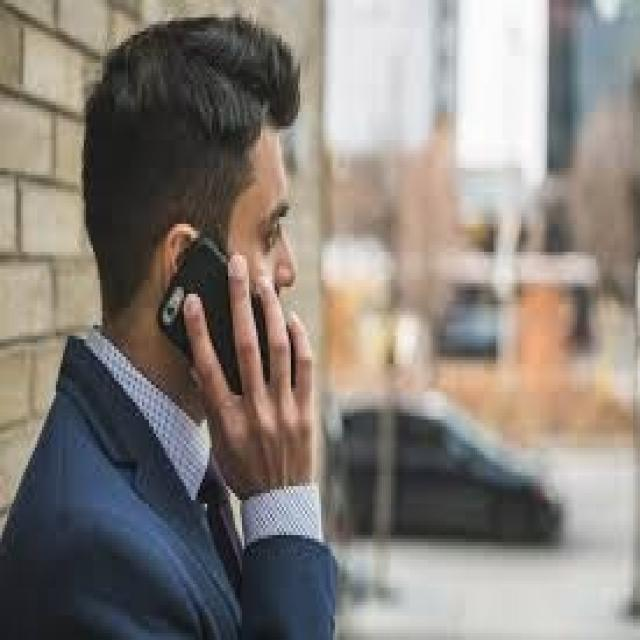phone: (151, 199, 342, 469)
